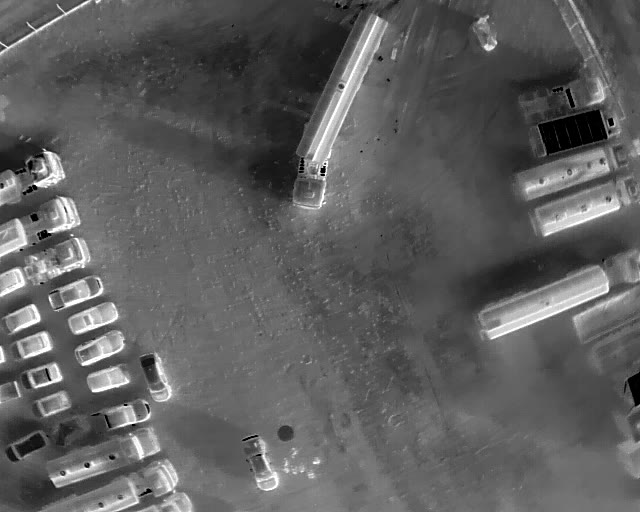car: (240, 433, 278, 493), (47, 273, 104, 310), (88, 399, 152, 431), (73, 329, 125, 365), (67, 300, 121, 334), (138, 352, 172, 402), (2, 430, 47, 462), (0, 303, 42, 337), (10, 330, 54, 362), (84, 364, 131, 392), (29, 389, 74, 418), (20, 362, 64, 389), (0, 379, 22, 401)
person: (311, 454, 321, 466), (297, 461, 307, 473), (282, 458, 291, 469), (290, 446, 298, 458), (307, 470, 315, 480), (291, 465, 299, 474), (282, 467, 289, 474)
truck: (290, 10, 390, 209), (474, 246, 640, 341), (32, 456, 179, 511), (529, 172, 640, 239), (44, 424, 161, 487), (510, 140, 632, 200), (0, 197, 80, 260), (527, 109, 624, 159), (567, 280, 640, 346), (517, 73, 606, 123), (0, 146, 68, 206), (24, 233, 91, 286), (589, 322, 640, 374)
